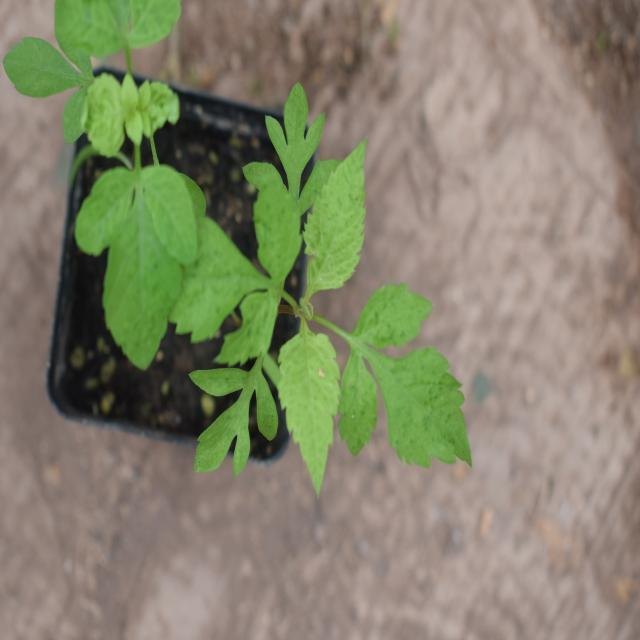Bidens pilosa: (170, 72, 462, 517), (28, 0, 202, 393)
